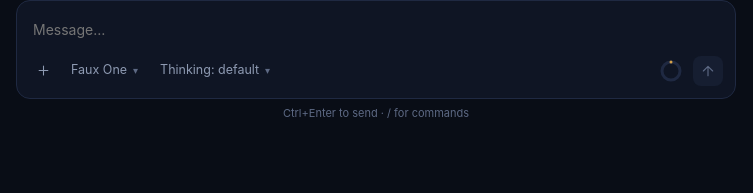
Scenario: Composer › slash commands (Task 7) › an unknown /command on submit is a CLEAR alert-strip error, not a submission
Type "/bogus now" into the text box with placeholder "Message…".
click(376, 30); type("/bogus now")  # box x1=29 y1=13 x2=723 y2=47
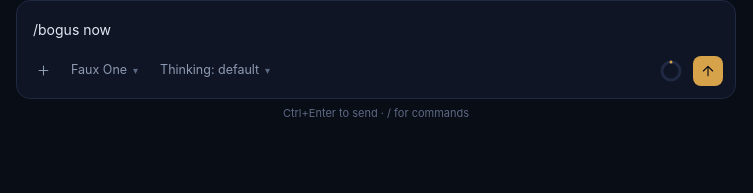
Click the button named "Send".
click(708, 71)  # box x1=693 y1=56 x2=723 y2=86
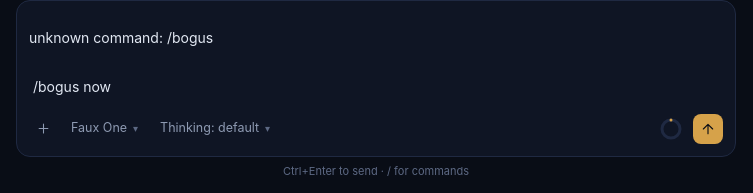
Expected: the message "unknown command: /bogus" is shown, x1=29 y1=29 x2=213 y2=46
